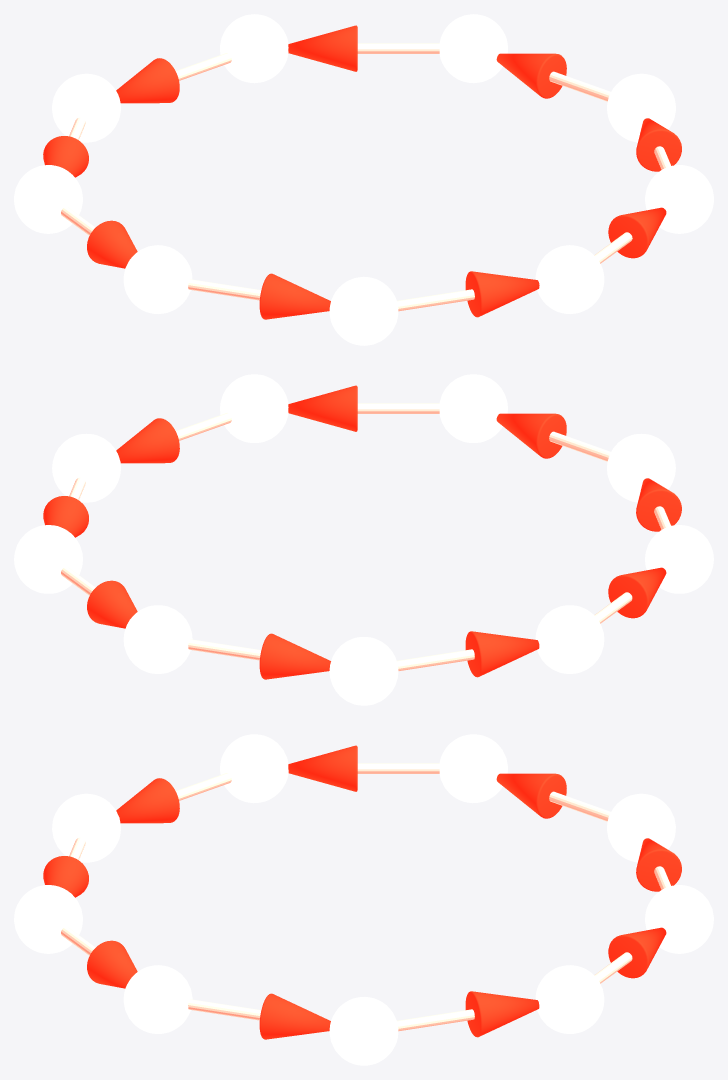
The picture shows the model from 3 angles, top to bottom: view 1: azimuth 30°, elevation 25°; view 2: azimuth 150°, elevation 25°; view 3: azimuth 270°, elevation 25°; orthographic projection.
Parts seen in each view (by area): view 1: Sphere.0006, Sphere.0007, Sphere.0005, Sphere.0001, Sphere.0002, Sphere.0004, Sphere.0003, Sphere.0008, Sphere.0000, Alpha.0005, Alpha.0006, Alpha.0002 (+11 smaller); view 2: Sphere.0003, Sphere.0002, Sphere.0004, Sphere.0008, Sphere.0007, Sphere.0001, Sphere.0005, Sphere.0000, Sphere.0006, Alpha.0002, Alpha.0003, Alpha.0008 (+11 smaller); view 3: Sphere.0000, Sphere.0001, Sphere.0008, Sphere.0005, Sphere.0004, Sphere.0007, Sphere.0002, Sphere.0006, Sphere.0003, Alpha.0008, Alpha.0000, Alpha.0005 (+11 smaller).
Boxes of the visible parts, bbox=[...] form: Sphere.0006: bbox=[329, 276, 398, 345]; Sphere.0007: bbox=[535, 245, 604, 313]; Sphere.0005: bbox=[123, 245, 192, 313]; Sphere.0001: bbox=[439, 14, 507, 83]; Sphere.0002: bbox=[220, 14, 288, 83]; Sphere.0004: bbox=[14, 165, 82, 233]; Sphere.0003: bbox=[52, 73, 120, 142]; Sphere.0008: bbox=[645, 165, 713, 233]; Sphere.0000: bbox=[607, 73, 675, 142]; Alpha.0005: bbox=[259, 273, 330, 319]; Alpha.0006: bbox=[465, 271, 539, 317]; Alpha.0002: bbox=[116, 58, 179, 103]; Sphere.0003: bbox=[329, 637, 398, 705]; Sphere.0002: bbox=[123, 605, 192, 673]; Sphere.0004: bbox=[535, 605, 604, 673]; Sphere.0008: bbox=[220, 374, 288, 442]; Sphere.0007: bbox=[439, 374, 507, 442]; Sphere.0001: bbox=[14, 525, 82, 593]; Sphere.0005: bbox=[645, 525, 713, 593]; Sphere.0000: bbox=[52, 433, 120, 502]; Sphere.0006: bbox=[607, 433, 675, 502]; Alpha.0002: bbox=[259, 633, 330, 679]; Alpha.0003: bbox=[465, 631, 539, 677]; Alpha.0008: bbox=[116, 418, 179, 463]; Sphere.0000: bbox=[329, 997, 398, 1065]; Sphere.0001: bbox=[535, 965, 604, 1033]; Sphere.0008: bbox=[123, 965, 192, 1033]; Sphere.0005: bbox=[220, 734, 288, 803]; Sphere.0004: bbox=[439, 734, 507, 803]; Sphere.0007: bbox=[14, 885, 82, 953]; Sphere.0002: bbox=[645, 885, 713, 953]; Sphere.0006: bbox=[52, 793, 120, 862]; Sphere.0003: bbox=[607, 793, 675, 862]; Alpha.0008: bbox=[259, 993, 330, 1039]; Alpha.0000: bbox=[465, 991, 539, 1037]; Alpha.0005: bbox=[116, 778, 179, 823].
Bounding box in the file's own units: 1.3 × 0.1296 × 1.32.
